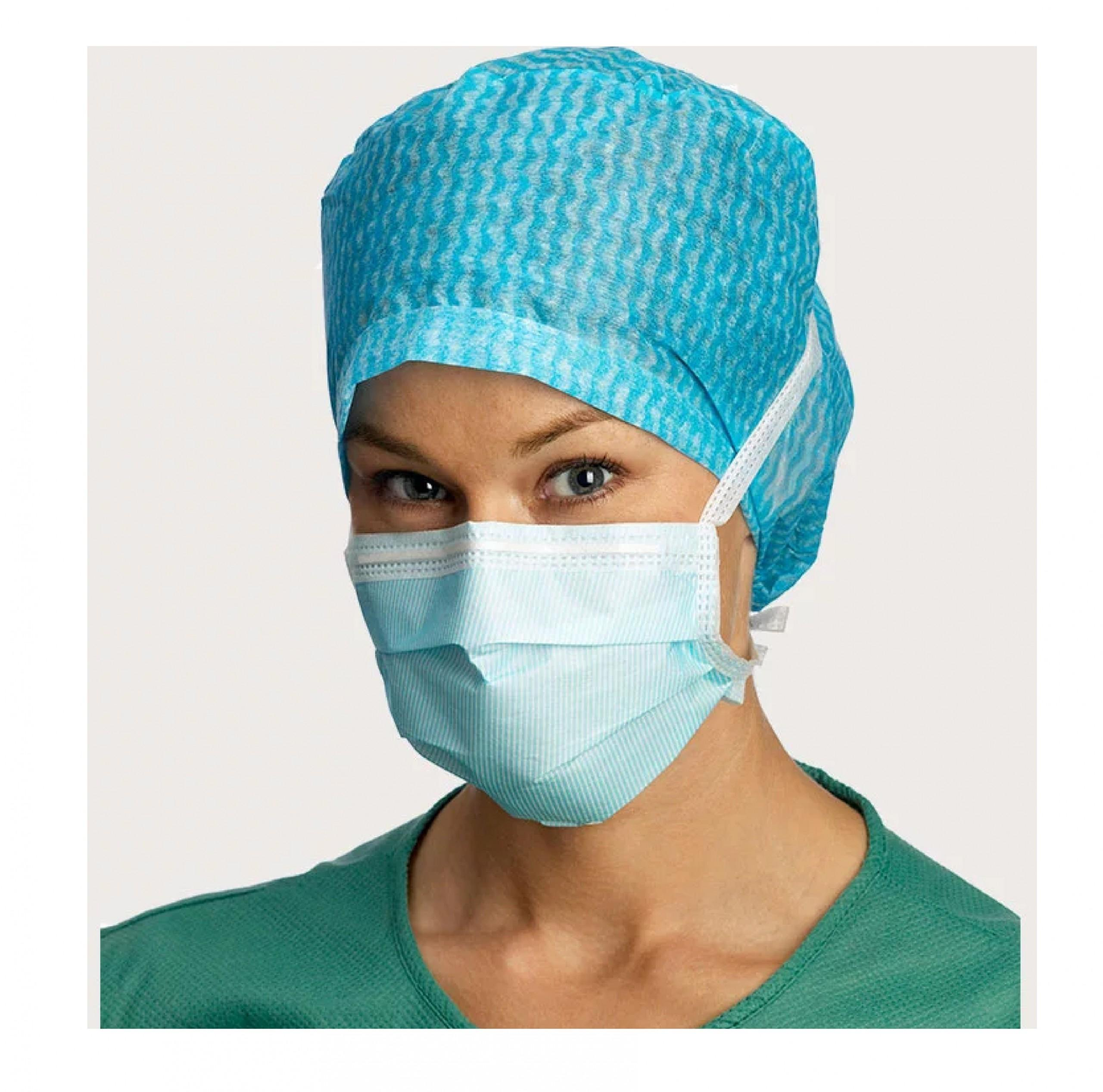hairnet: (273, 27, 920, 623)
mask: (290, 493, 785, 844)
